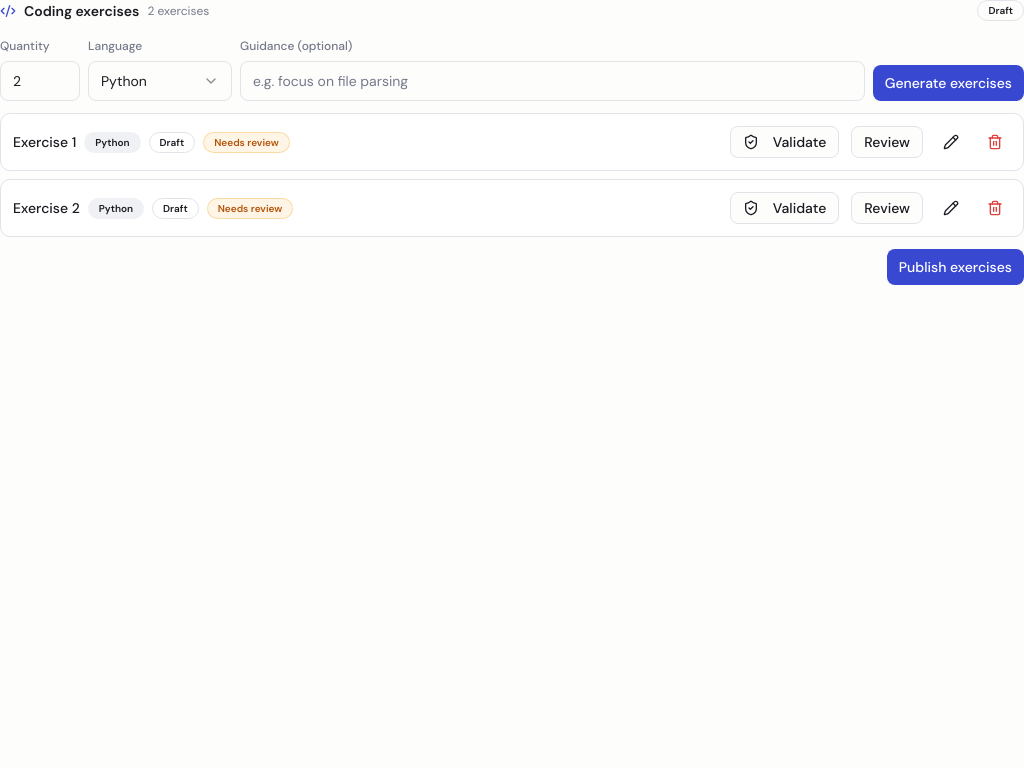
Test: CodingExercisesSection — review flow › opens the review dialog, marks reviewed, and advances to the next exercise
The width and height of the screenshot is (1024, 768).
Click the button "Review" in the row of "Exercise 1": (887,142) [851,126,923,158]
(page scrolled)
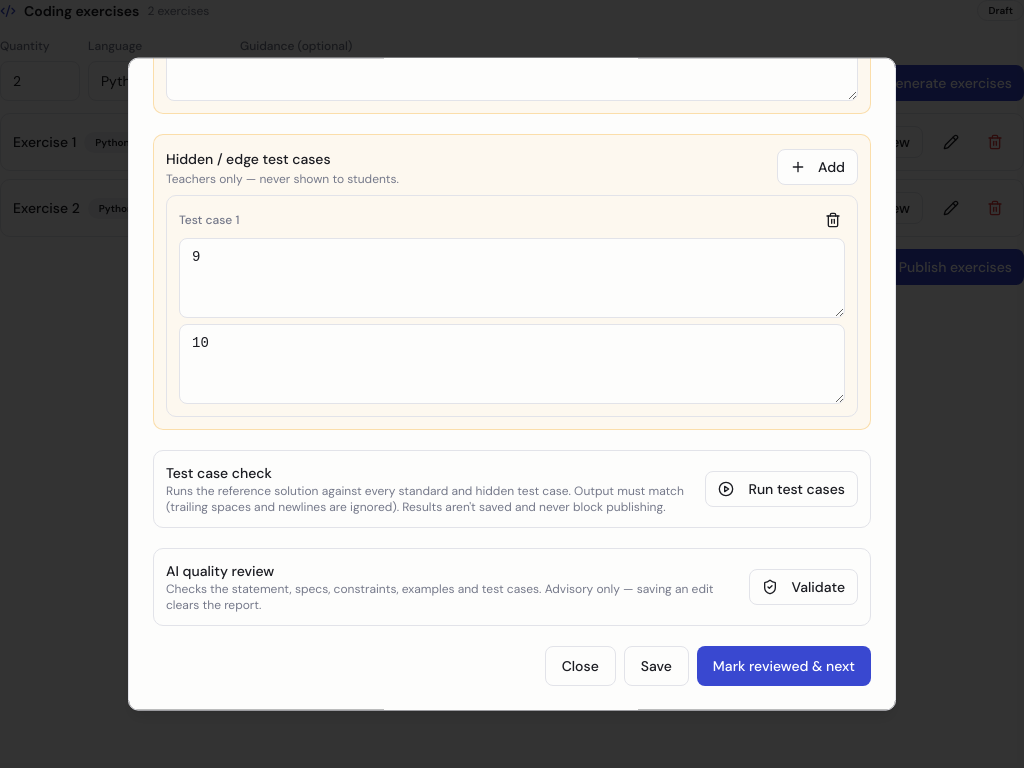
Click the button "Mark reviewed & next": (784,666) [697,646,871,686]
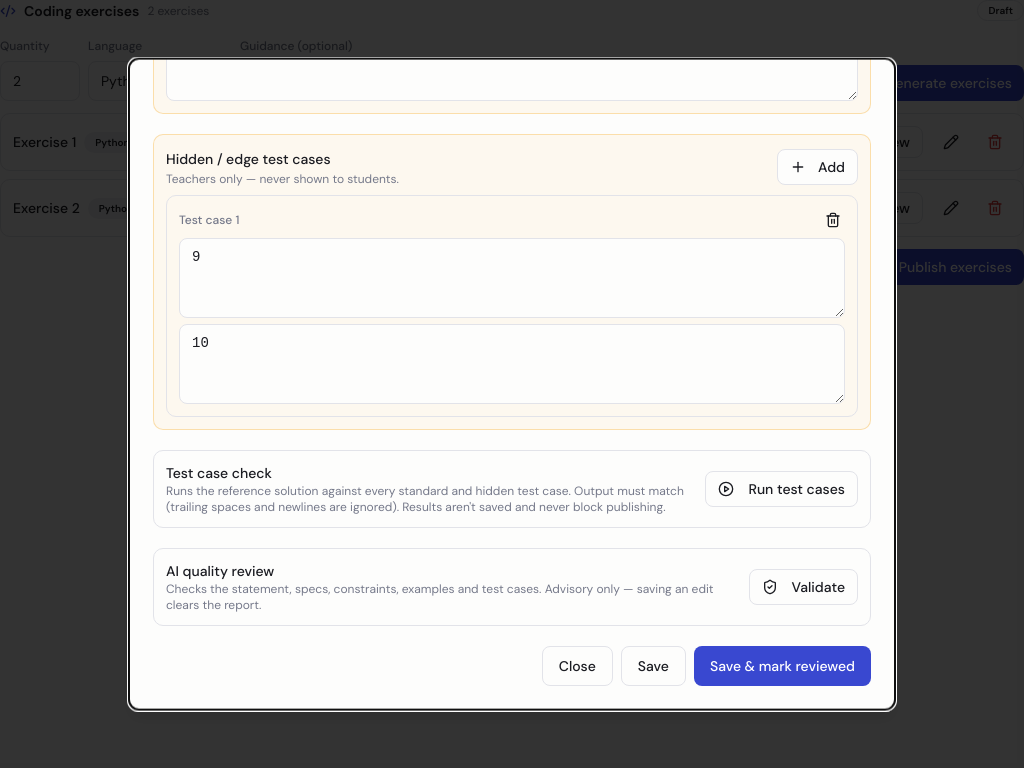
Expected: the button "Save & mark reviewed" is shown, [694,646,871,686]
